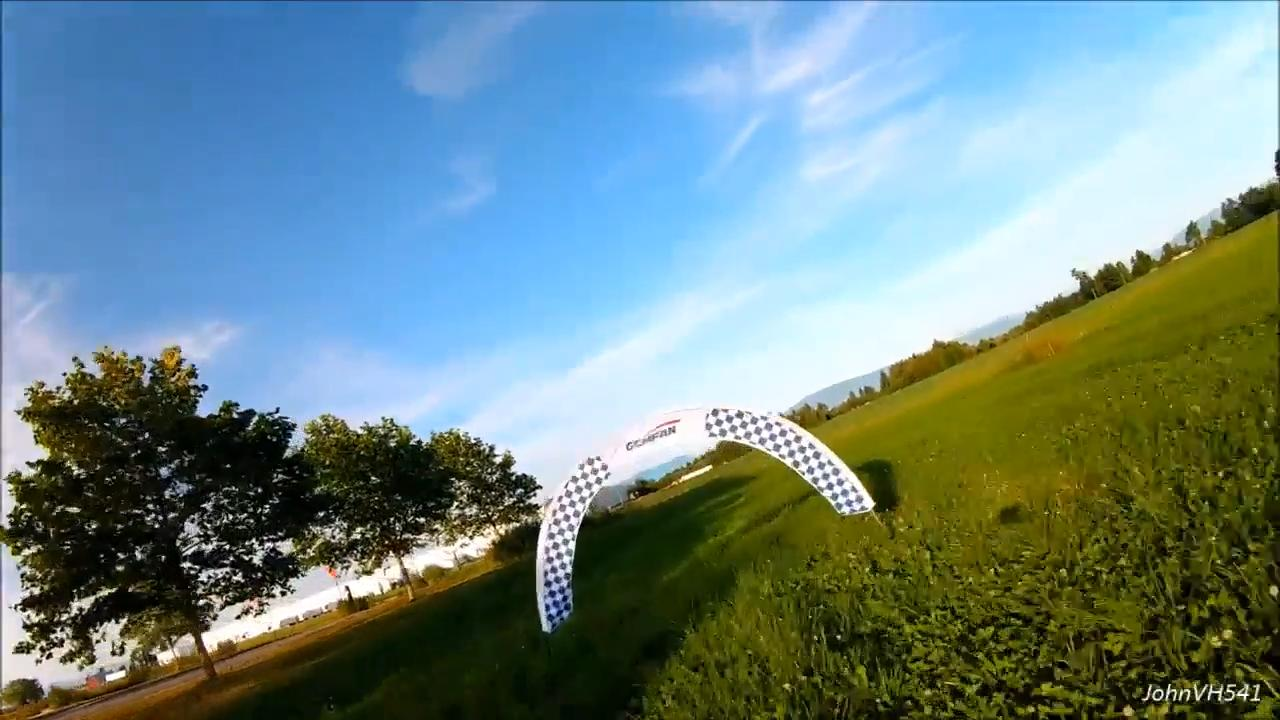gate: (534, 401, 881, 635)
